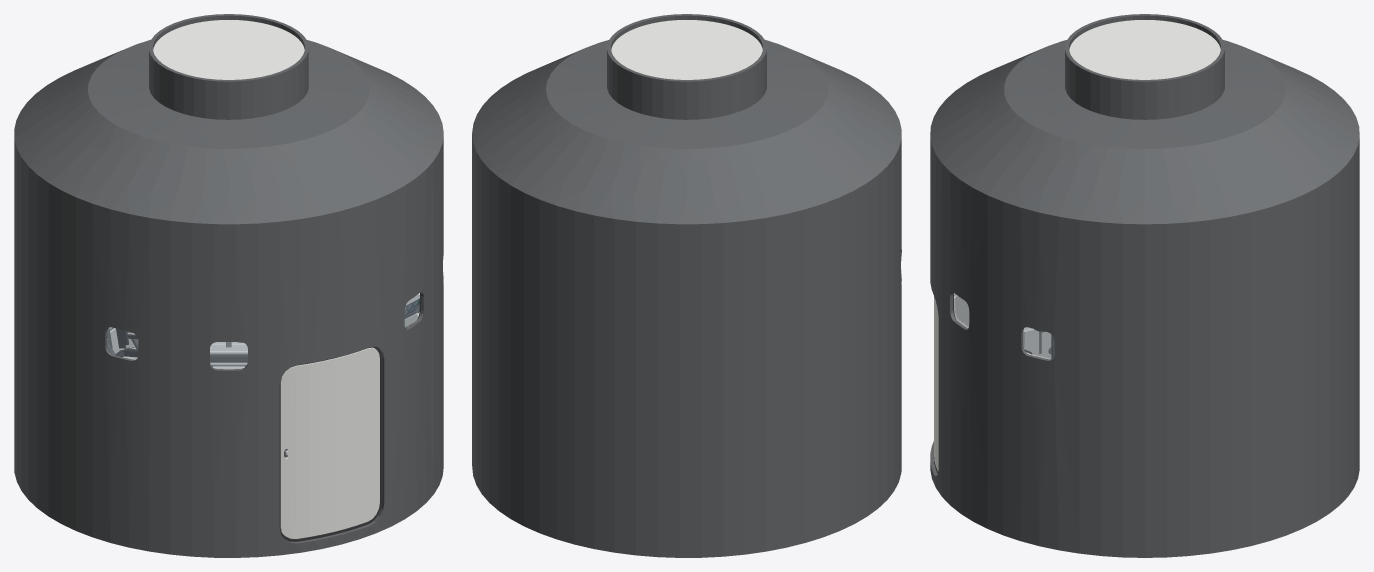
The model's file is ax_cmd_05_lander_crew_cabin_interior.glb.
3 views of the same model, side by side, from view 1: azimuth 30°, elevation 25°; view 2: azimuth 150°, elevation 25°; view 3: azimuth 270°, elevation 25° (orthographic).
Visible parts, largest first — view 1: pressure_vessel, hatch_door_1, hatch_door_2, hatch_seal_1, window_glass_inner_2, window_glass_inner_1; view 2: pressure_vessel, hatch_door_2; view 3: pressure_vessel, hatch_door_2, hatch_door_1, window_glass_inner_4, locker_15_door.
Boxes of the visible parts, bbox=[...] form: pressure_vessel: bbox=[14, 14, 443, 557]; hatch_door_1: bbox=[280, 347, 379, 538]; hatch_door_2: bbox=[153, 20, 304, 79]; hatch_seal_1: bbox=[279, 346, 382, 541]; window_glass_inner_2: bbox=[210, 342, 247, 368]; window_glass_inner_1: bbox=[108, 327, 137, 358]; pressure_vessel: bbox=[472, 14, 901, 557]; hatch_door_2: bbox=[611, 20, 762, 79]; pressure_vessel: bbox=[930, 14, 1359, 557]; hatch_door_2: bbox=[1069, 20, 1220, 79]; hatch_door_1: bbox=[934, 296, 938, 471]; window_glass_inner_4: bbox=[1024, 327, 1054, 358]; locker_15_door: bbox=[1024, 329, 1051, 359].
Bounding box in the file's own units: 3.38 × 3.64 × 3.38.
Materials: 35 (2 with a texture image).
